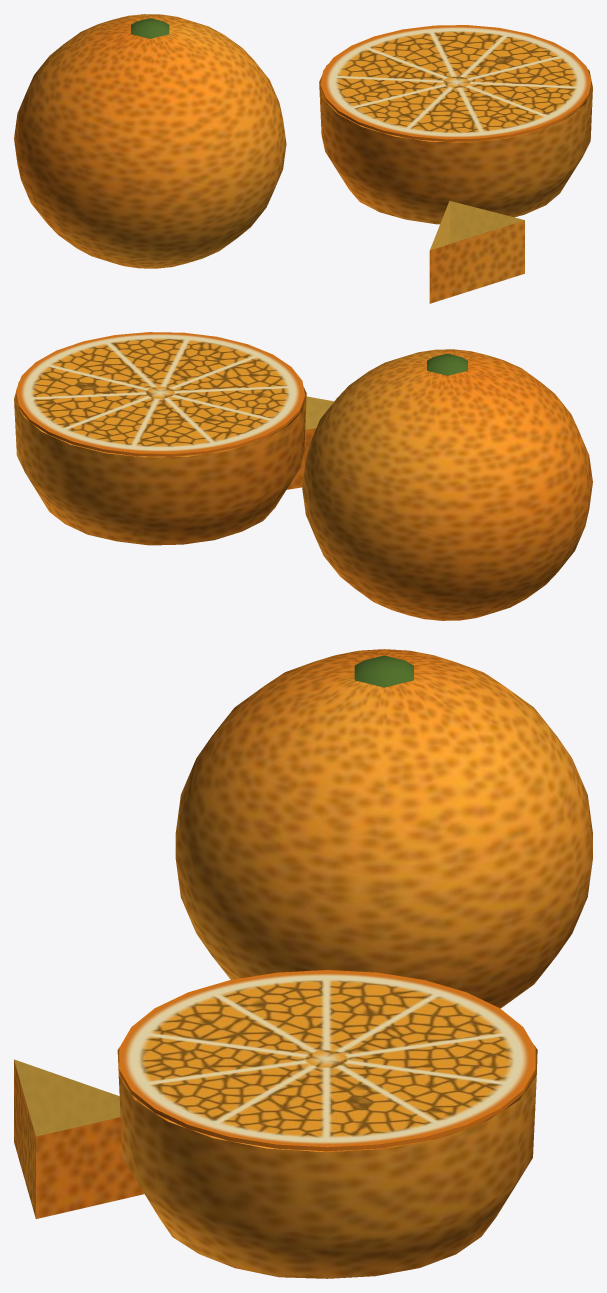
File: fruit_orange_and_half.glb
3 renders of one model, top to bottom at view 1: azimuth 30°, elevation 25°; view 2: azimuth 150°, elevation 25°; view 3: azimuth 270°, elevation 25°, orthographic. The views are drawn at different scales.
Parts seen in each view (by area): view 1: fruit_orange_and_half; view 2: fruit_orange_and_half; view 3: fruit_orange_and_half.
Part boxes in pixels (x1,y1,x2,y2): fruit_orange_and_half: (14,14,592,303); fruit_orange_and_half: (14,332,592,620); fruit_orange_and_half: (14,649,592,1278).
Size of the model in its own units: 0.1642 by 0.0697 by 0.1016.
4 materials, 2 textured.
